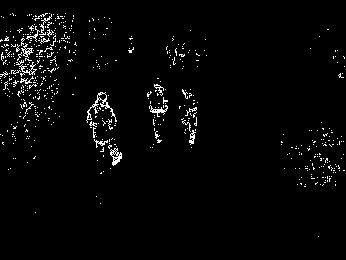person: (86, 91, 122, 167), (178, 86, 199, 149), (149, 78, 168, 144)
